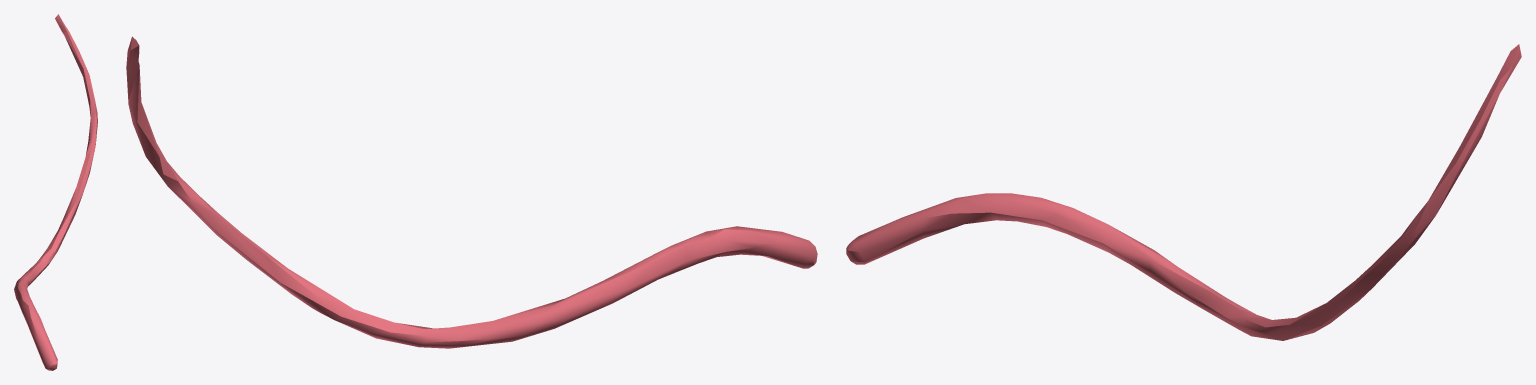
The model's file is fma50520_fj1705m.glb.
3 views of the same model, side by side, from view 1: azimuth 30°, elevation 25°; view 2: azimuth 150°, elevation 25°; view 3: azimuth 270°, elevation 25° (orthographic). The views are drawn at different scales.
Parts seen in each view (by area): view 1: FMA50520_FJ1705M; view 2: FMA50520_FJ1705M; view 3: FMA50520_FJ1705M.
Boxes of the visible parts, x1=… form: FMA50520_FJ1705M: x1=14, y1=14, x2=97, y2=370; FMA50520_FJ1705M: x1=126, y1=36, x2=817, y2=348; FMA50520_FJ1705M: x1=846, y1=44, x2=1521, y2=340.
Size of the model in its own units: 0.014 by 0.0134 by 0.0212.
